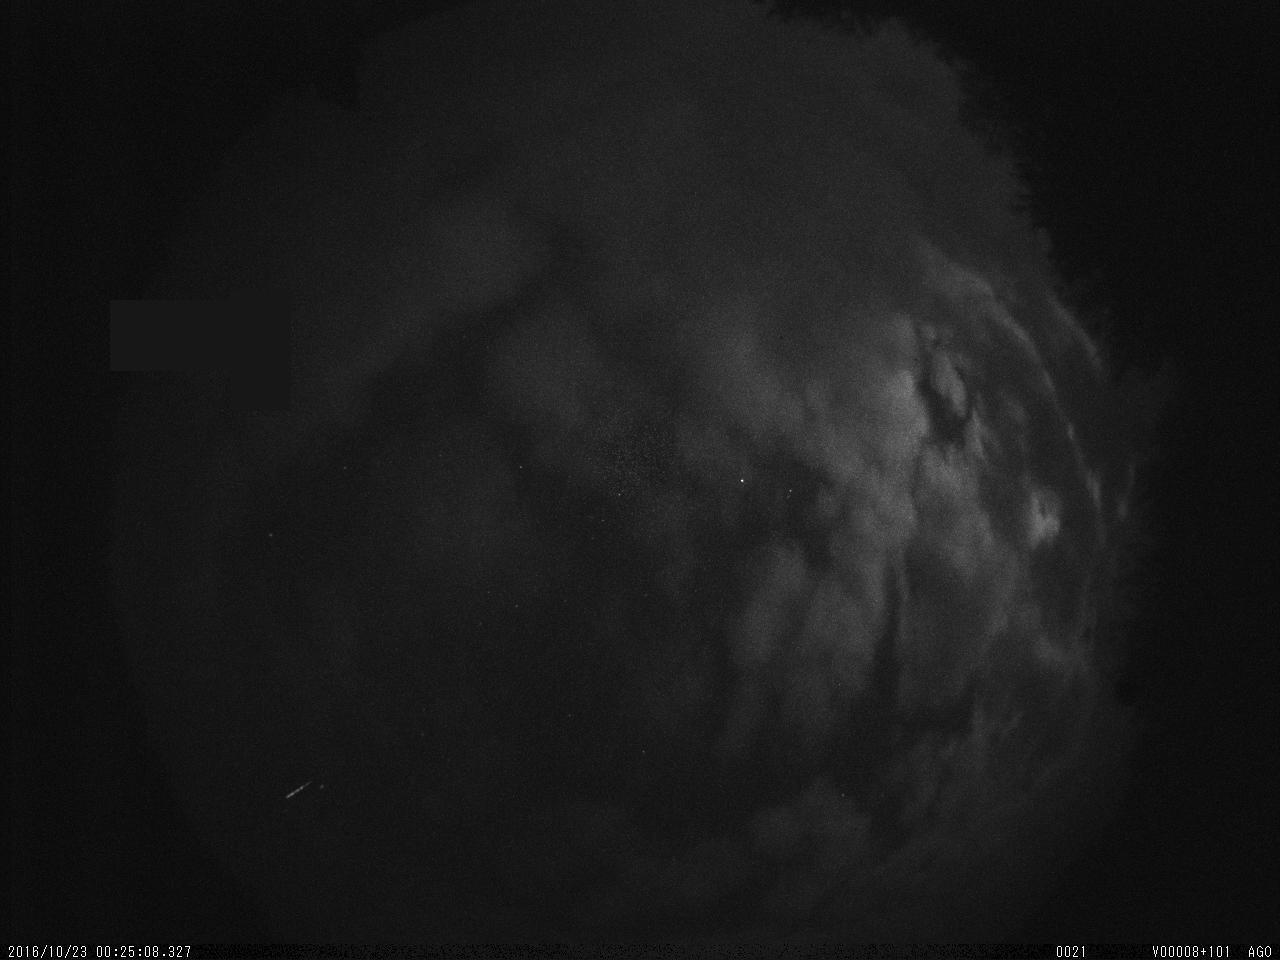meteor: (282, 765, 319, 811)
